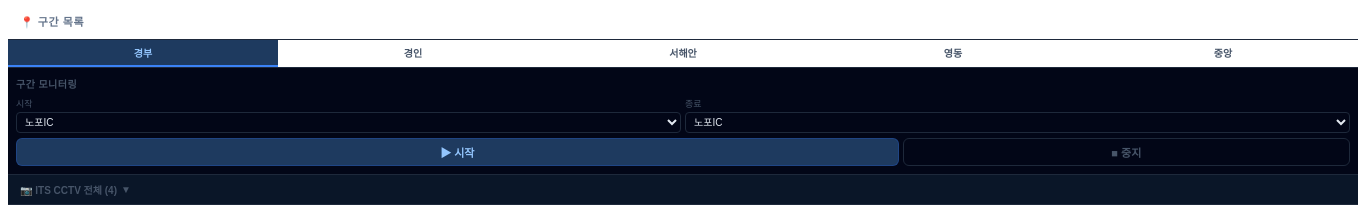
Scenario: SectionList — 종료 IC 드롭다운 시작 IC 기준 정렬 › startIC 변경 시 endIC가 새 startIC 값으로 리셋된다
expect the button "▶ 시작" is shown: met, box [16,138,899,166]
// 시작 IC를 '달래내IC'로 변경
Select "달래내IC" in the 1st dropdown at (348,122), box [16,112,681,133]
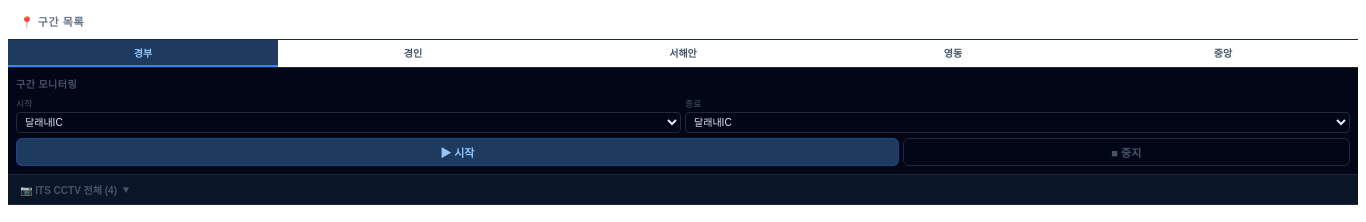
expect the dropdown below "종료" shows "달래내IC": met, box [685,112,1350,133]
